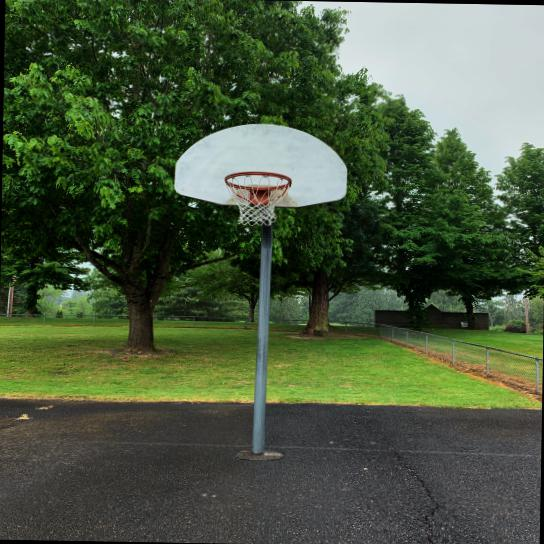basketball-hoop: (223, 169, 294, 227)
